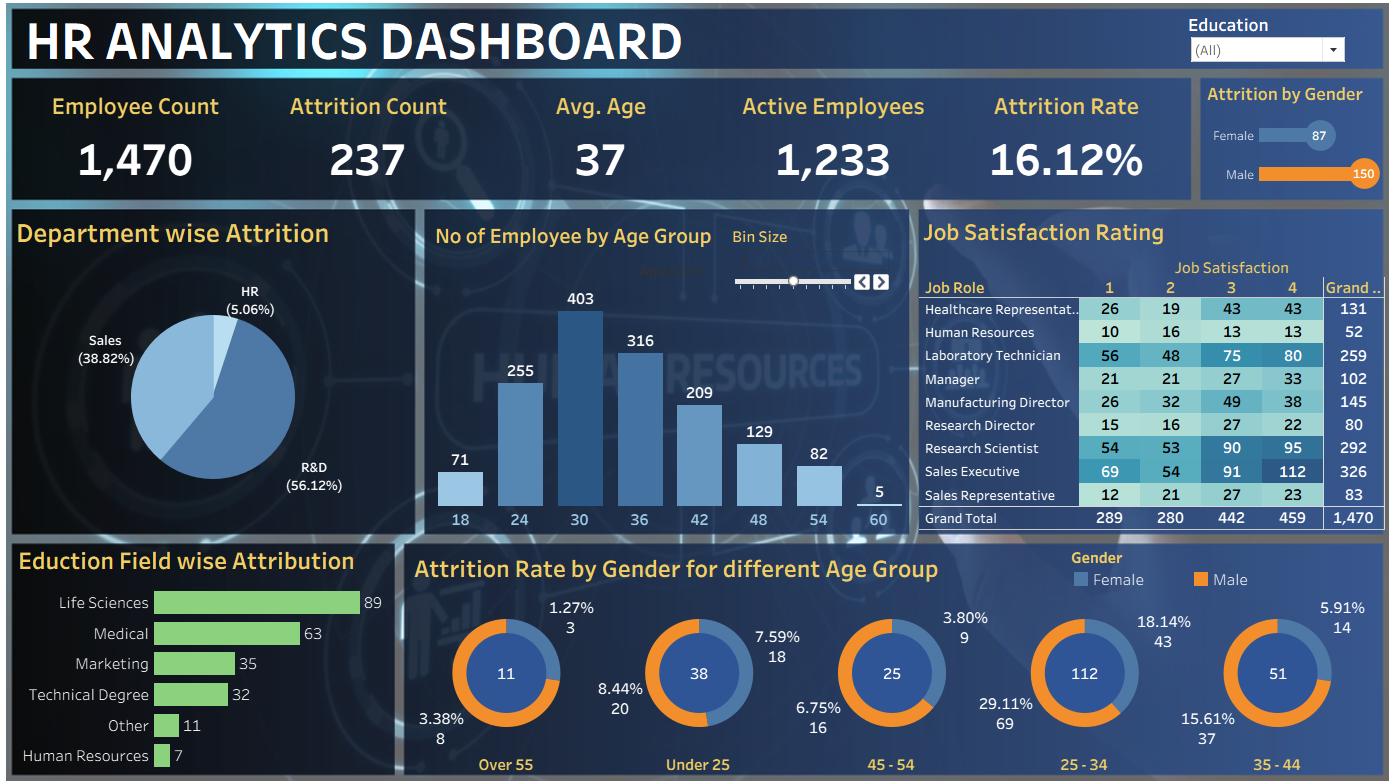

This screenshot's page, from the dashboard's own definition file:
{"tool":"tableau","page":{"name":"Dashboard 1","canvas":[1000,1000],"units":"permille","ordinal":0},"visuals":[{"type":"image","param":"C:/Users/gayat/Downloads/HR background.pptx.png","box":[4.9,10,990.1,980]},{"type":"filter","title":"KPI","param":"[federated.1v5zzsc0clln7z1cdmb4r1izqy21].[none:Education:nk]","box":[802.5,26.2,98.8,63.6]},{"type":"text","box":[82.7,29.9,582.1,59.9]},{"type":"worksheet","title":"Attrition by Gender","mark":"Automatic","rows":["Gender"],"cols":["Calculation_446419348034527232","Calculation_446419348034527232"],"box":[811.7,107.2,113,144.6]},{"type":"worksheet","title":"KPI","mark":"Automatic","box":[80.9,111,718.5,144.6]},{"type":"worksheet","title":"Department wise Attrition","mark":"Pie","box":[76.5,274.3,248.2,402.7]},{"type":"worksheet","title":"Job Satisfaction Rating","mark":"Square","rows":["Job Role"],"cols":["Job Satisfaction"],"box":[636.4,275.6,287.7,396.5]},{"type":"worksheet","title":"No of Employee by Age Group","mark":"Automatic","rows":["Employee Count"],"cols":["Age (bin)"],"box":[335.2,281.8,295.1,391.5]},{"type":"parameter","param":"[Parameters].[Parameter 1]","box":[521,293,98.8,97.3]},{"type":"worksheet","title":"Eduction Field wise Attribution","mark":"Automatic","rows":["Education Field"],"cols":["Calculation_446419348034527232"],"box":[77.8,684.5,236.4,288]},{"type":"legend","title":"Attrition Rate by Gender for different Age Group","param":"[federated.1v5zzsc0clln7z1cdmb4r1izqy21].[none:Gender:nk]","box":[730.2,693.3,188.9,59.9]},{"type":"worksheet","title":"Attrition Rate by Gender for different Age Group","mark":"Pie","rows":["Calculation_2272347522956599298","Calculation_2272347522956599298"],"cols":["CF_age band"],"box":[322.2,694.5,595.7,284.3]}]}

Visuals, with their boxes on the dashboard's canvas, which has no fixed pixel size, in thousandths of its width and height (x1, y1, x2, y2). These are canvas units, not pixel positions in the 1394x784 screenshot, which may show the page scaled, cropped or inside an application window:
image: {"left": 5, "top": 10, "right": 995, "bottom": 990}
"KPI" filter: {"left": 802, "top": 26, "right": 901, "bottom": 90}
text: {"left": 83, "top": 30, "right": 665, "bottom": 90}
"Attrition by Gender" worksheet: {"left": 812, "top": 107, "right": 925, "bottom": 252}
"KPI" worksheet: {"left": 81, "top": 111, "right": 799, "bottom": 256}
"Department wise Attrition" worksheet (Pie marks): {"left": 76, "top": 274, "right": 325, "bottom": 677}
"Job Satisfaction Rating" worksheet (Square marks): {"left": 636, "top": 276, "right": 924, "bottom": 672}
"No of Employee by Age Group" worksheet: {"left": 335, "top": 282, "right": 630, "bottom": 673}
parameter: {"left": 521, "top": 293, "right": 620, "bottom": 390}
"Eduction Field wise Attribution" worksheet: {"left": 78, "top": 684, "right": 314, "bottom": 972}
"Attrition Rate by Gender for different Age Group" legend: {"left": 730, "top": 693, "right": 919, "bottom": 753}
"Attrition Rate by Gender for different Age Group" worksheet (Pie marks): {"left": 322, "top": 694, "right": 918, "bottom": 979}
